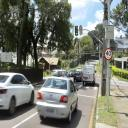speed_limit_40: (104, 48, 113, 60)
